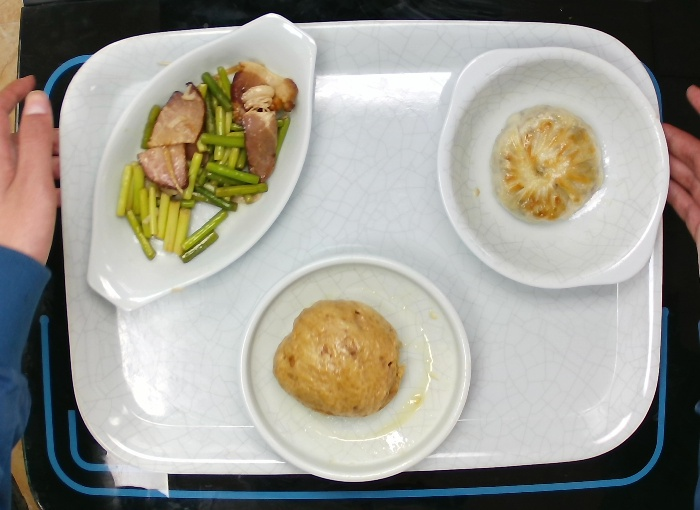JYsf-Shuang_Er_Wan: (436, 35, 674, 291)
JYsf-Xiao_Yuan_Pan: (234, 250, 474, 487)
JYsf-Yu_Pan: (78, 5, 326, 315)
